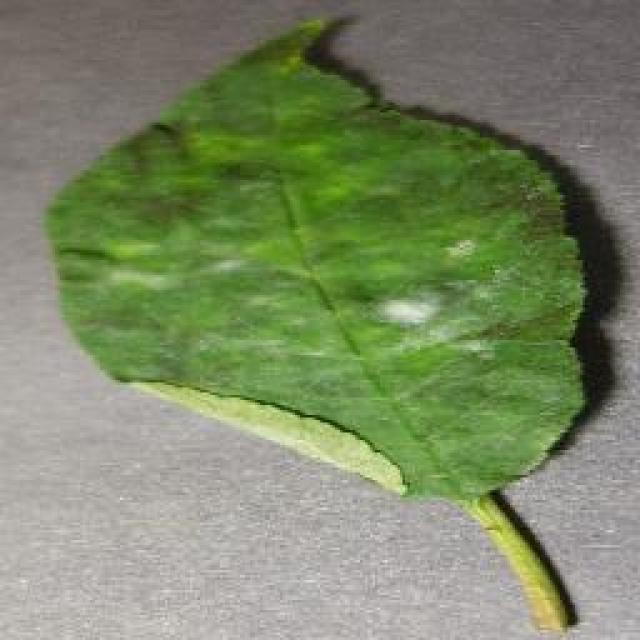Cherry___Powdery_mildew: (120, 99, 536, 414)
